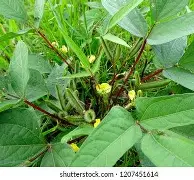crops: (0, 0, 192, 166), (46, 0, 104, 47), (0, 14, 24, 63)
